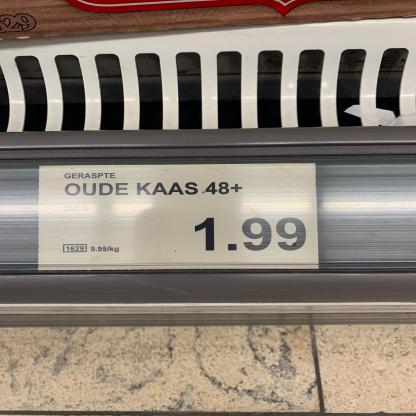prtg: (38, 164, 321, 272)
